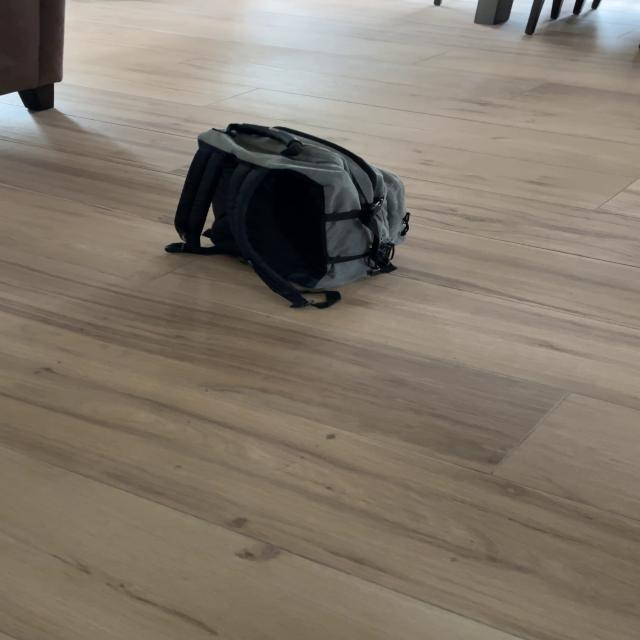backpack: (166, 115, 424, 311)
